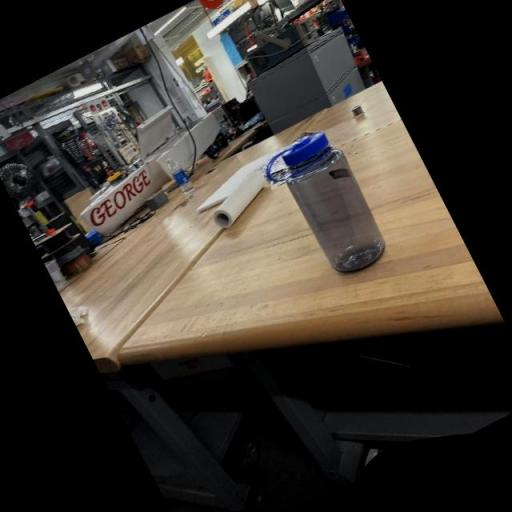bottle: (258, 122, 396, 290)
